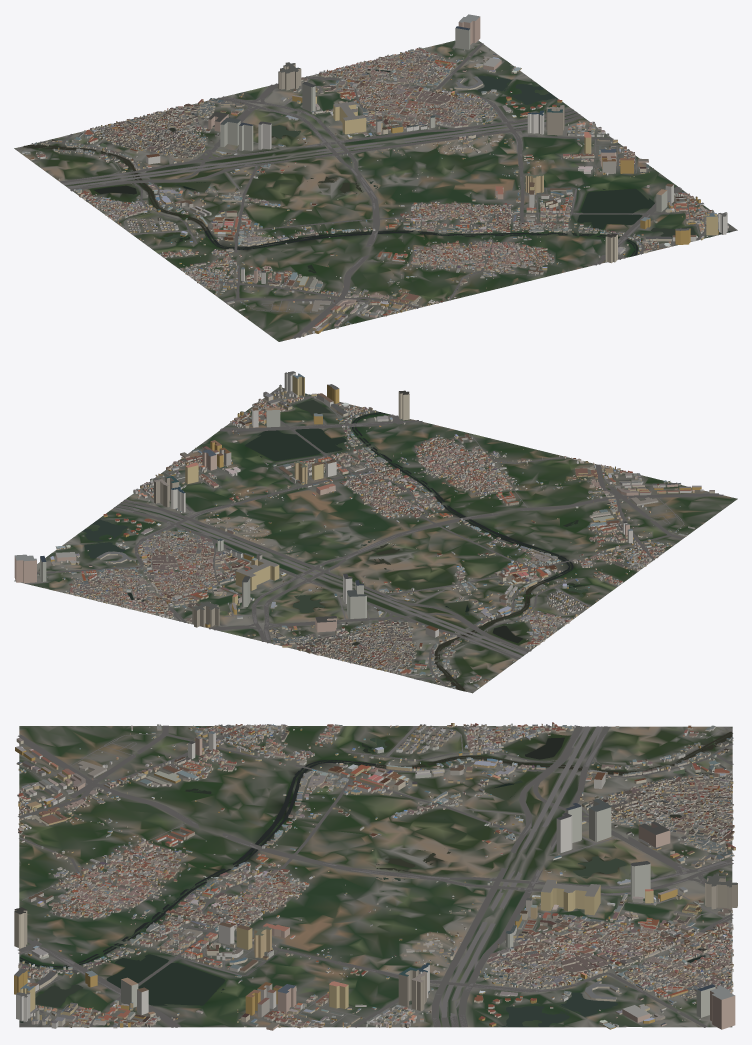
The picture shows the model from 3 angles, top to bottom: view 1: azimuth 30°, elevation 25°; view 2: azimuth 150°, elevation 25°; view 3: azimuth 270°, elevation 25°; orthographic projection. The views are drawn at different scales.
Parts seen in each view (by area): view 1: ground, buildings, roads, water; view 2: ground, buildings, roads, water; view 3: ground, buildings, roads, water.
Part boxes in pixels (x1,y1,x2,y2): ground: (14, 40, 737, 341); buildings: (21, 14, 728, 336); roads: (16, 43, 707, 338); water: (22, 69, 730, 273); ground: (14, 387, 737, 693); buildings: (14, 371, 714, 689); roads: (25, 396, 723, 691); water: (82, 393, 588, 691); ground: (19, 725, 732, 1027); buildings: (14, 722, 737, 1030); roads: (18, 725, 733, 1027); water: (19, 731, 732, 1026).
Size of the model in its own units: 2839 by 153 by 2846.
